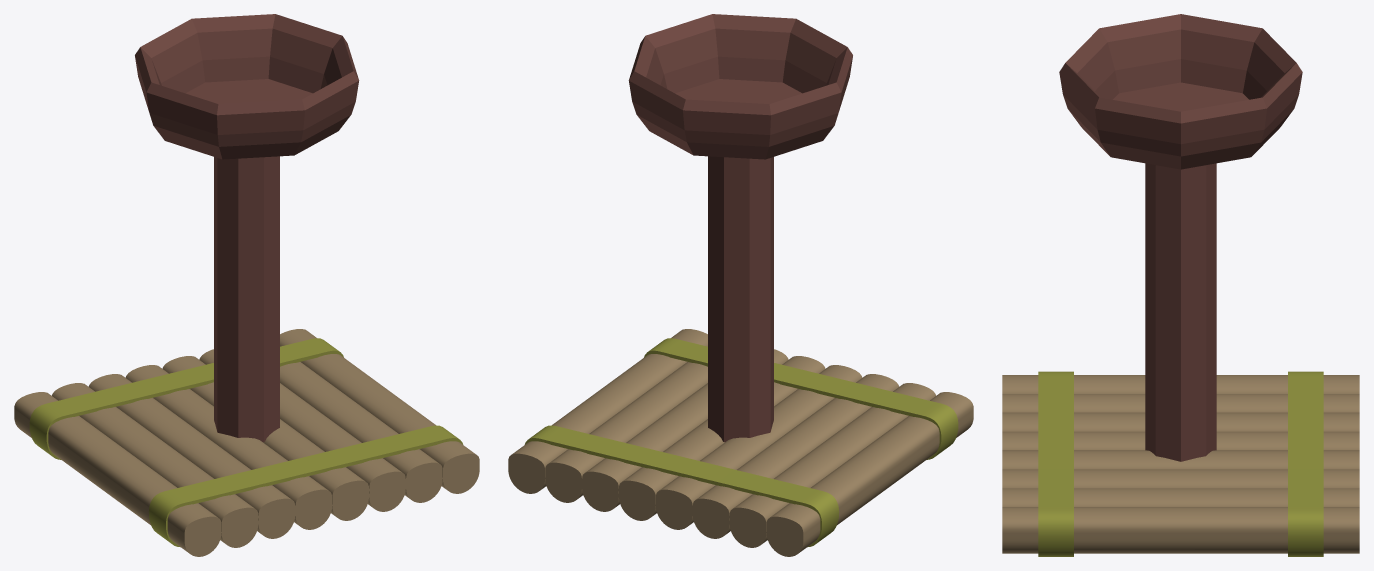
Rendered from MastRaft.fbx.
3 renders of one model, left to right at view 1: azimuth 30°, elevation 25°; view 2: azimuth 150°, elevation 25°; view 3: azimuth 270°, elevation 25°, orthographic. The views are drawn at different scales.
Visible parts, largest first — view 1: MastTile, Mast, RaftBands.004; view 2: MastTile, Mast, RaftBands.004; view 3: Mast, MastTile, RaftBands.004.
Part boxes in pixels (bbox=[...]): MastTile: bbox=[14, 329, 479, 556]; Mast: bbox=[135, 14, 359, 442]; RaftBands.004: bbox=[29, 338, 463, 547]; MastTile: bbox=[508, 329, 973, 556]; Mast: bbox=[628, 14, 852, 442]; RaftBands.004: bbox=[524, 338, 958, 547]; Mast: bbox=[1059, 14, 1302, 461]; MastTile: bbox=[1002, 375, 1359, 553]; RaftBands.004: bbox=[1038, 371, 1323, 556].
Bounding box in the file's own units: 101 × 132 × 100.
